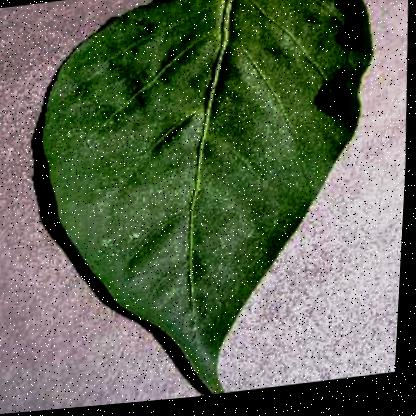Healthy: (24, 0, 392, 412)
